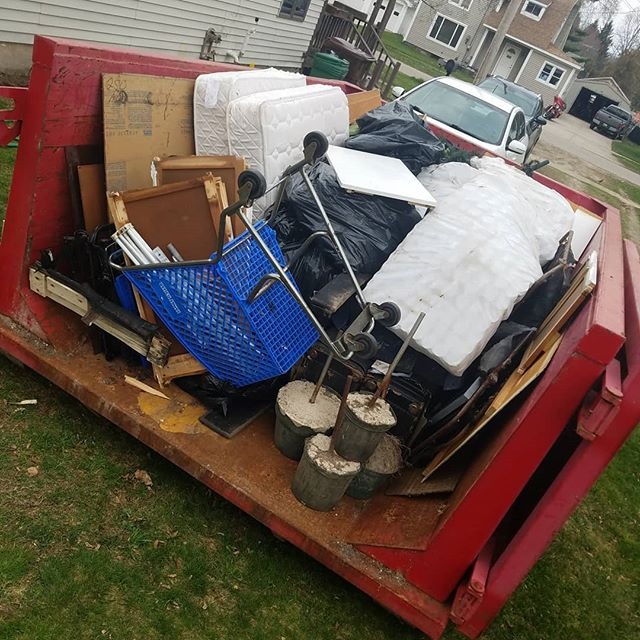building: (407, 1, 603, 106)
trash: (35, 83, 598, 570)
